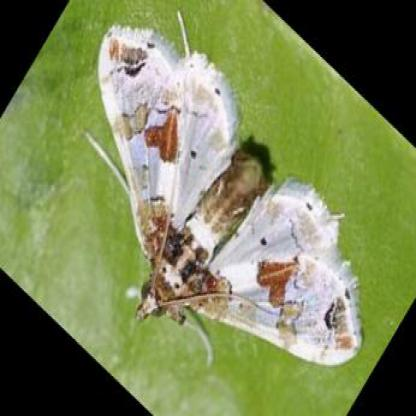leucinodes: (99, 21, 362, 370)
